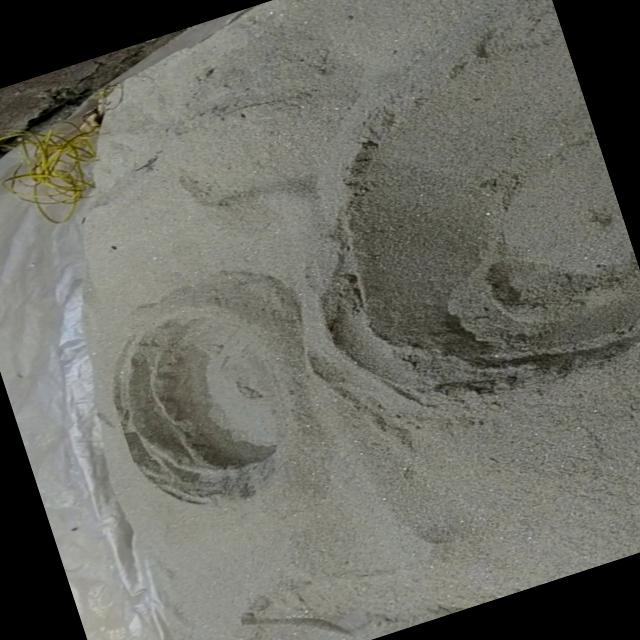C20: (323, 21, 640, 403), (114, 308, 278, 501)
